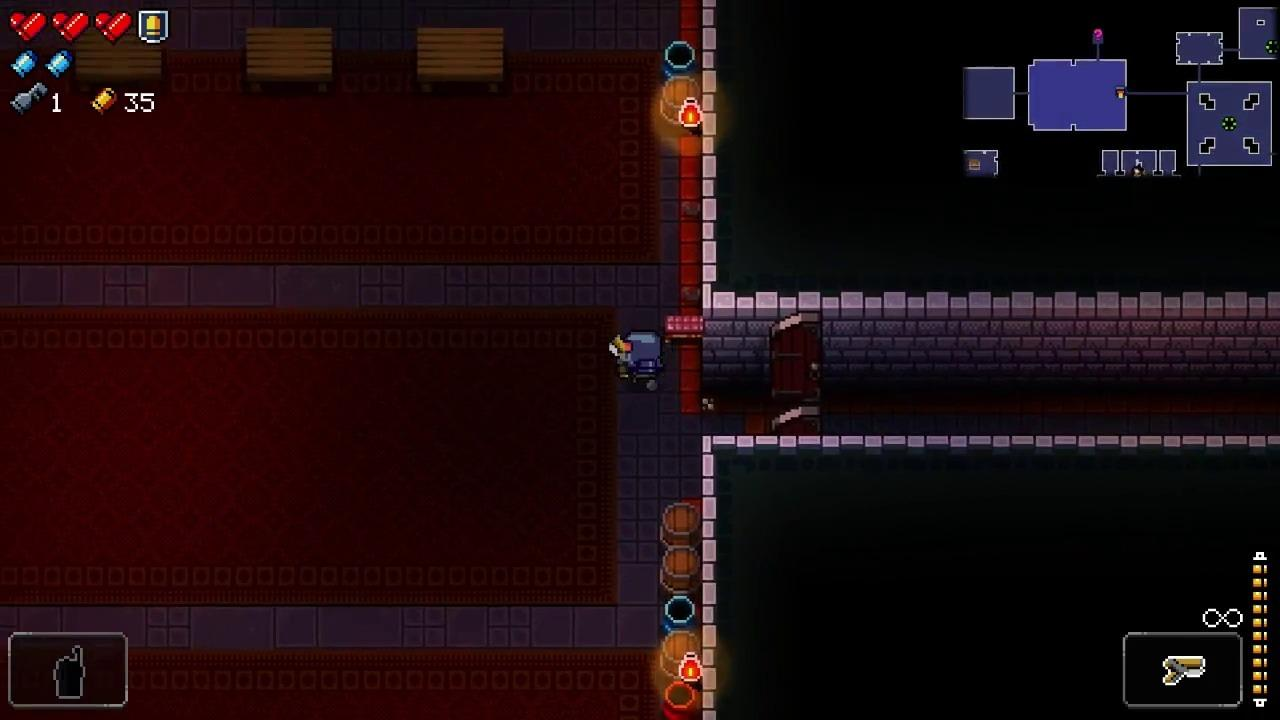player: (625, 331, 663, 383)
table: (73, 22, 164, 90), (417, 26, 503, 94), (246, 26, 332, 93)
unlocked_door: (771, 312, 821, 436)
